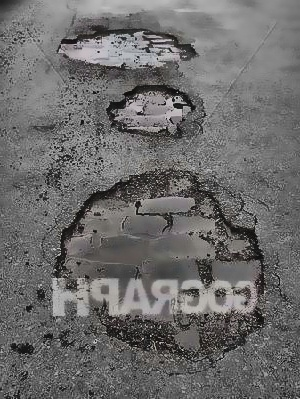pothole: (53, 162, 272, 360), (57, 27, 200, 63), (105, 82, 197, 137)
